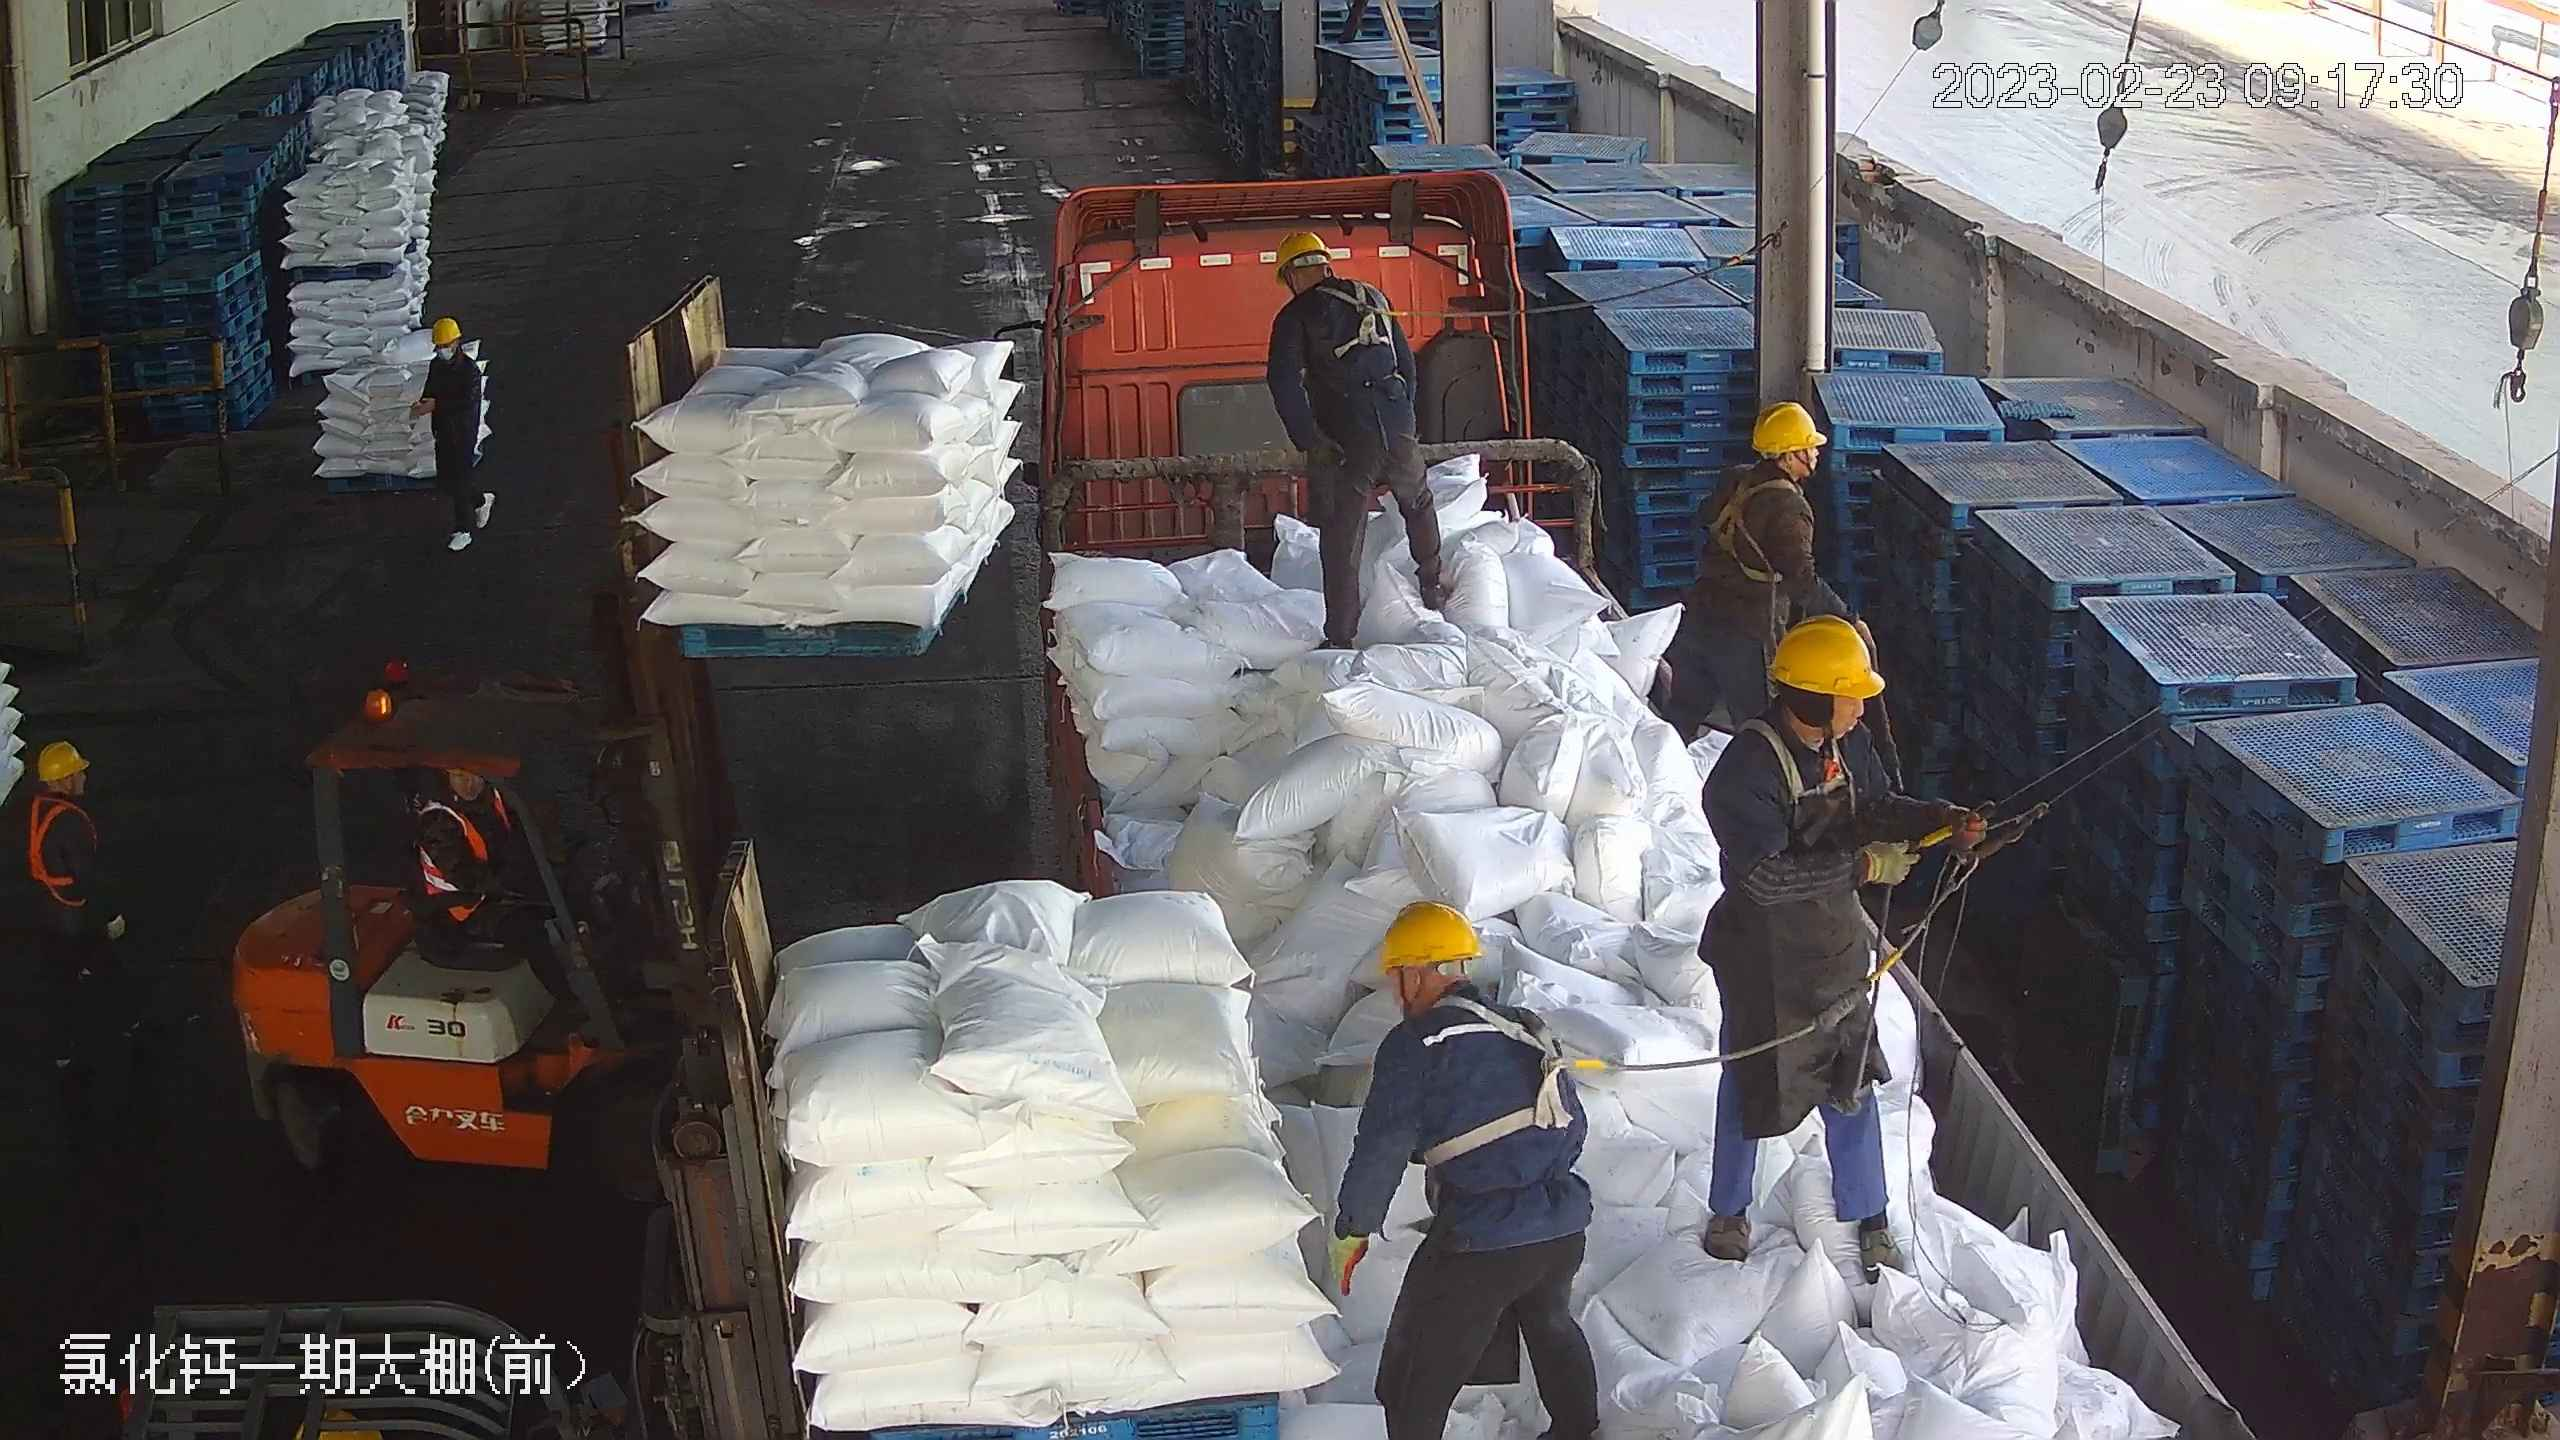belt: (1426, 999, 1612, 1160), (1705, 476, 1799, 578), (1758, 719, 1858, 805), (1308, 283, 1403, 366), (17, 794, 88, 889)
head: (1353, 901, 1556, 1100), (1732, 609, 1904, 825), (1715, 402, 1828, 527), (1266, 232, 1387, 339), (12, 739, 110, 848), (420, 315, 486, 385)
helmet: (1767, 608, 1886, 698), (1365, 898, 1487, 971), (1750, 396, 1830, 452), (1268, 231, 1332, 278), (33, 738, 89, 781), (427, 314, 463, 344)
people: (1698, 618, 1969, 1289), (1320, 900, 1607, 1440), (1259, 231, 1456, 653), (1653, 399, 1831, 742), (10, 737, 140, 1069), (411, 312, 497, 559)
truck: (972, 148, 2260, 1440)
